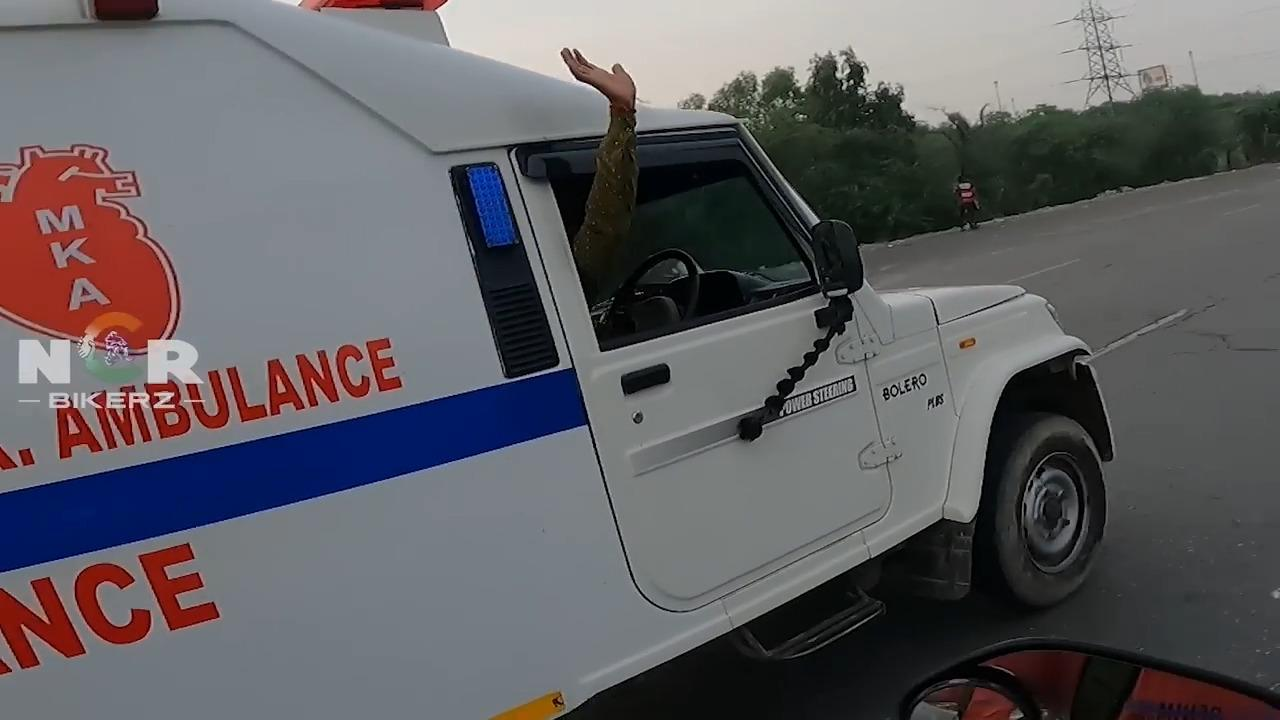ambulance: (0, 0, 1225, 696)
